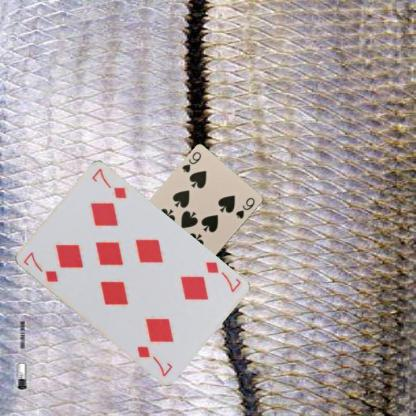7d: (20, 249, 60, 284), (202, 259, 242, 293)
9s: (179, 149, 202, 175)
